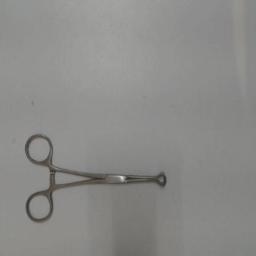Babcock Tissue Forceps: (22, 130, 168, 226)
